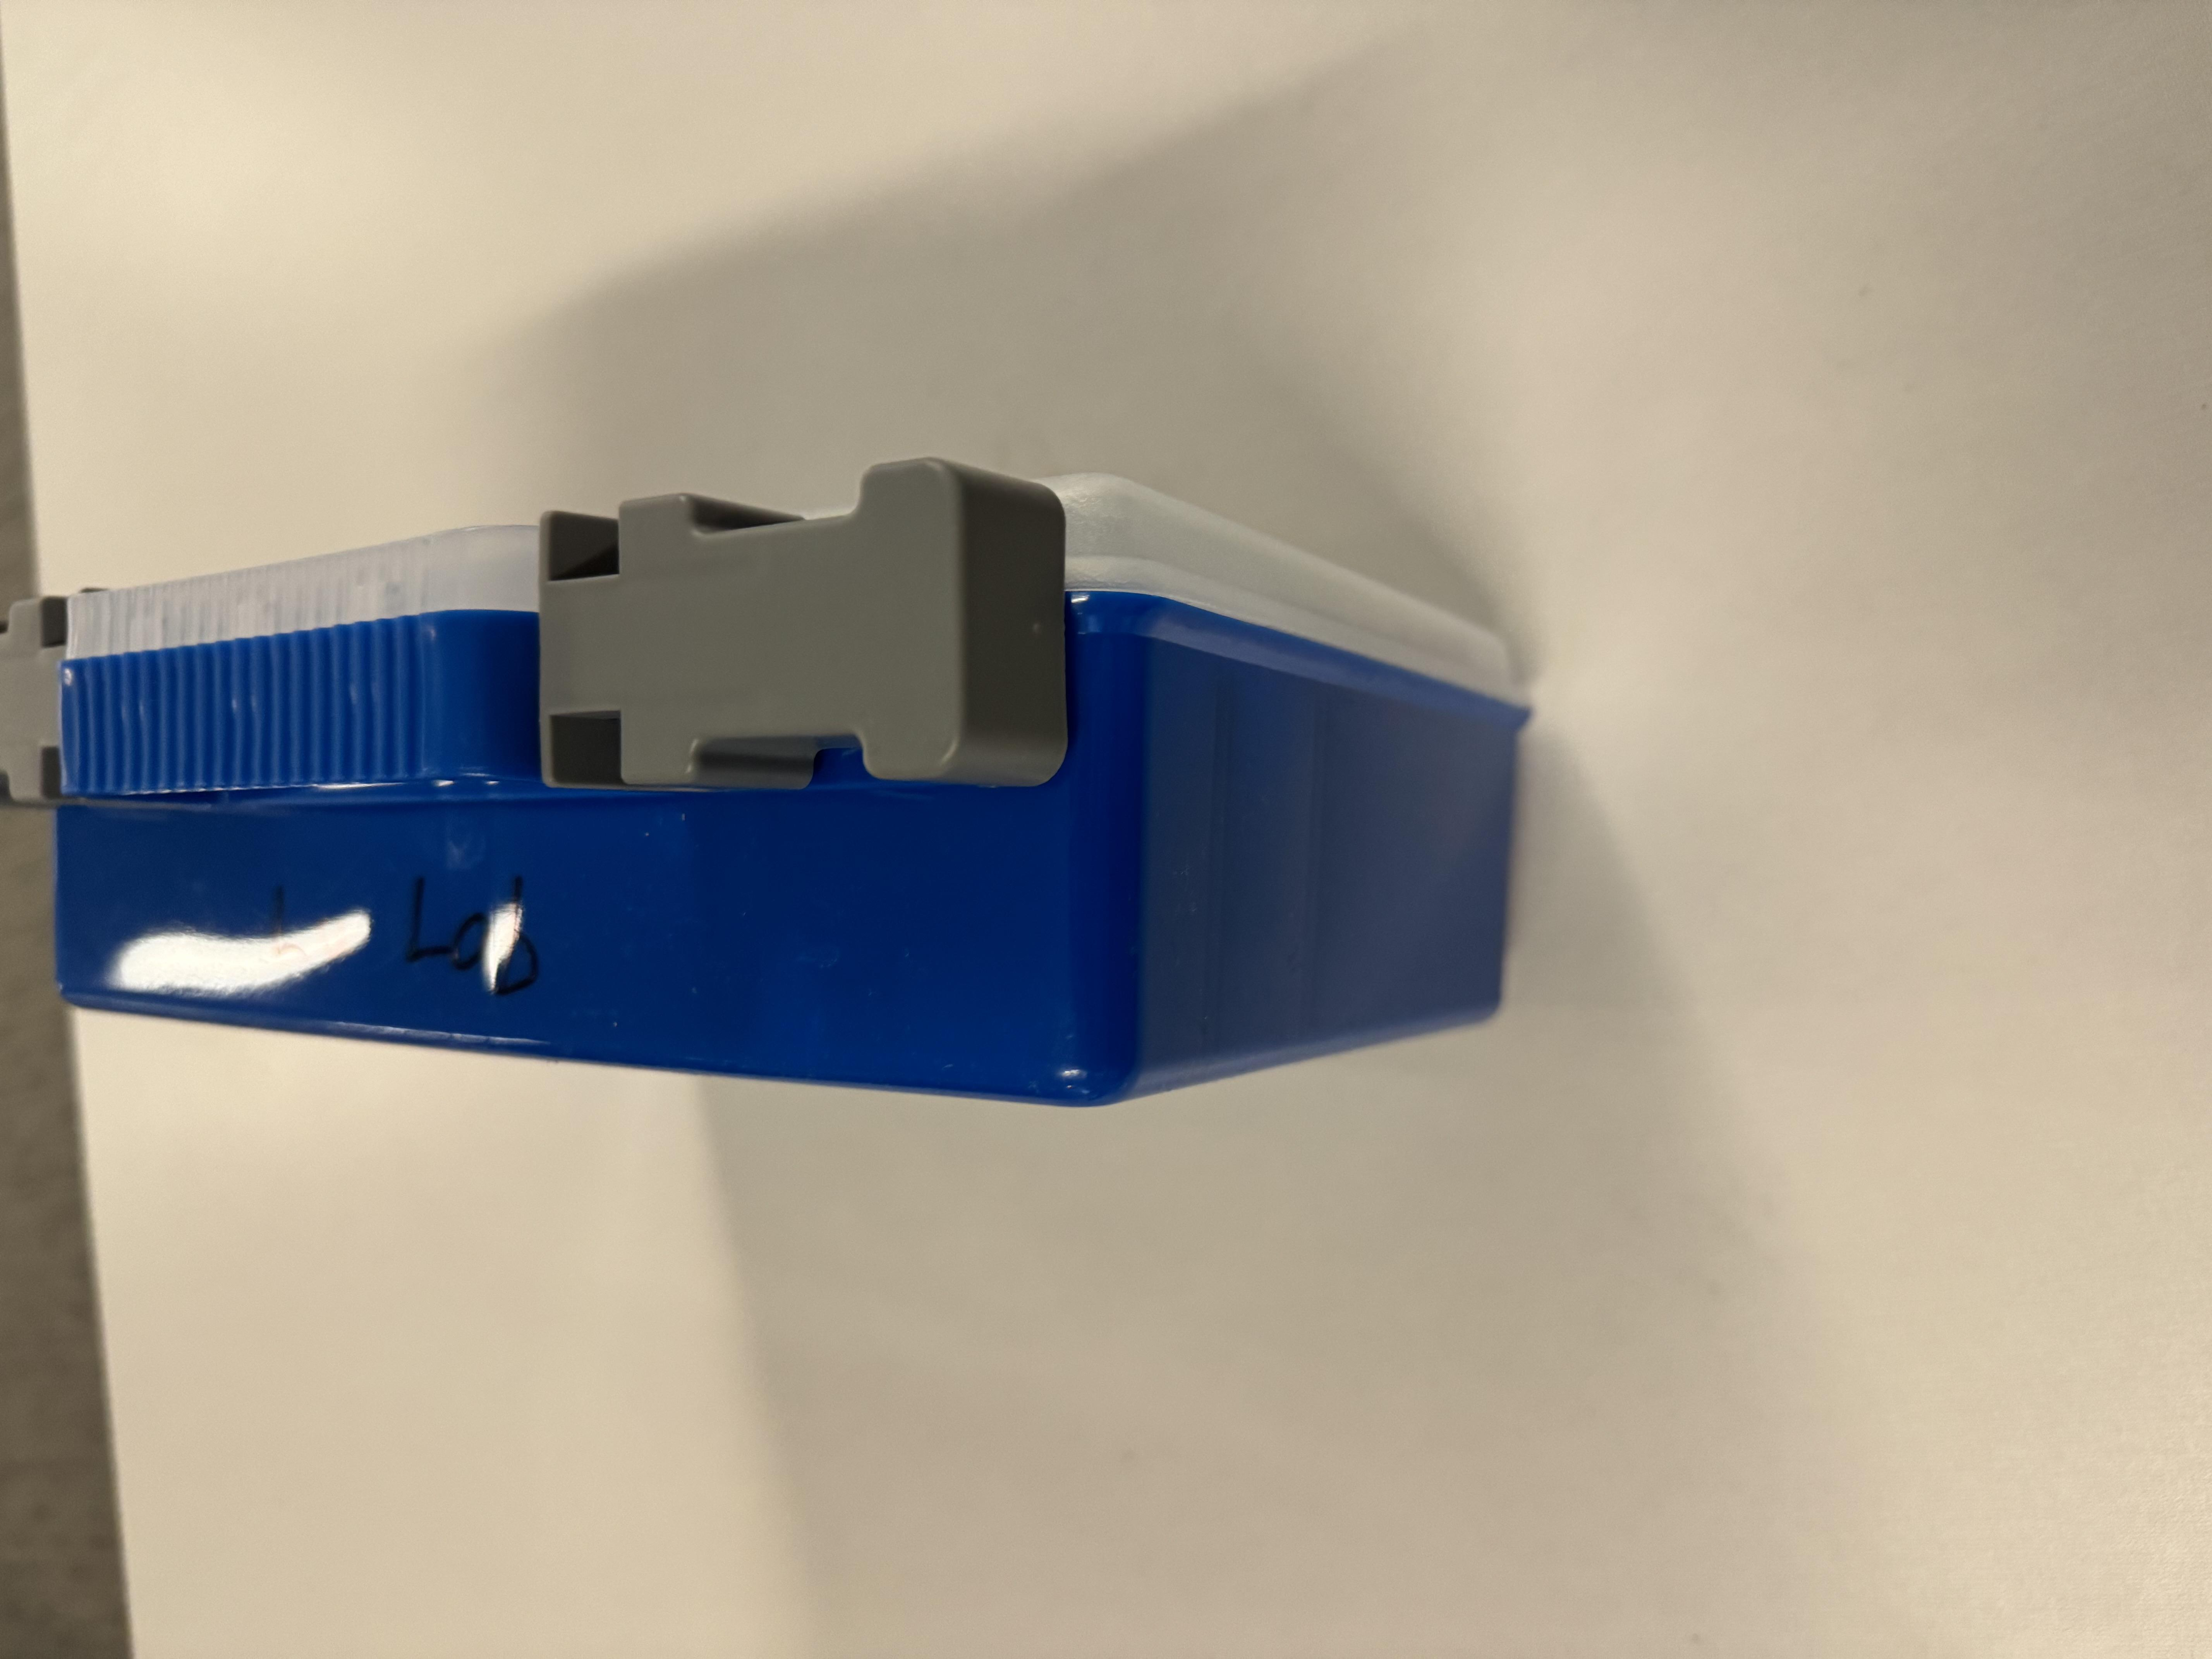first aid kit: (594, 0, 1807, 1245)
